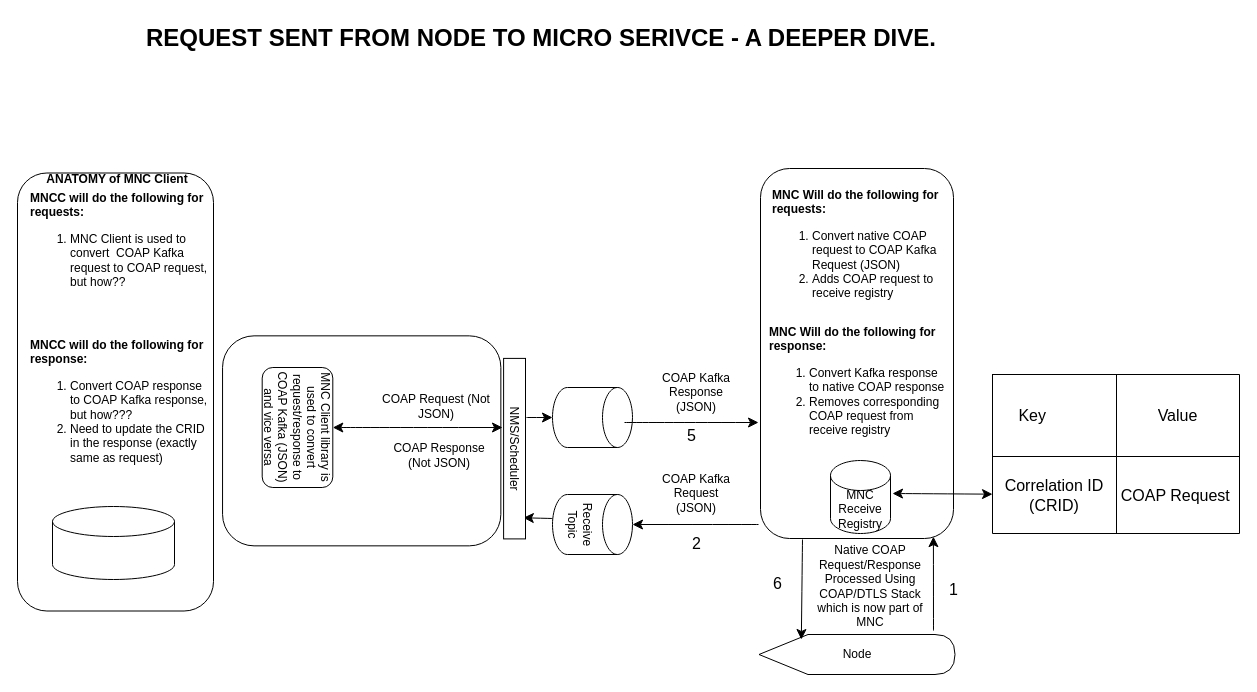
Some shapes in this 1257 by 692 pixel diagram are drawn without their labels. Each missing label, with the centre of its shape:
"NO REGISTRY" belongs at (113,543).
"Send Topic" belongs at (592,417).
